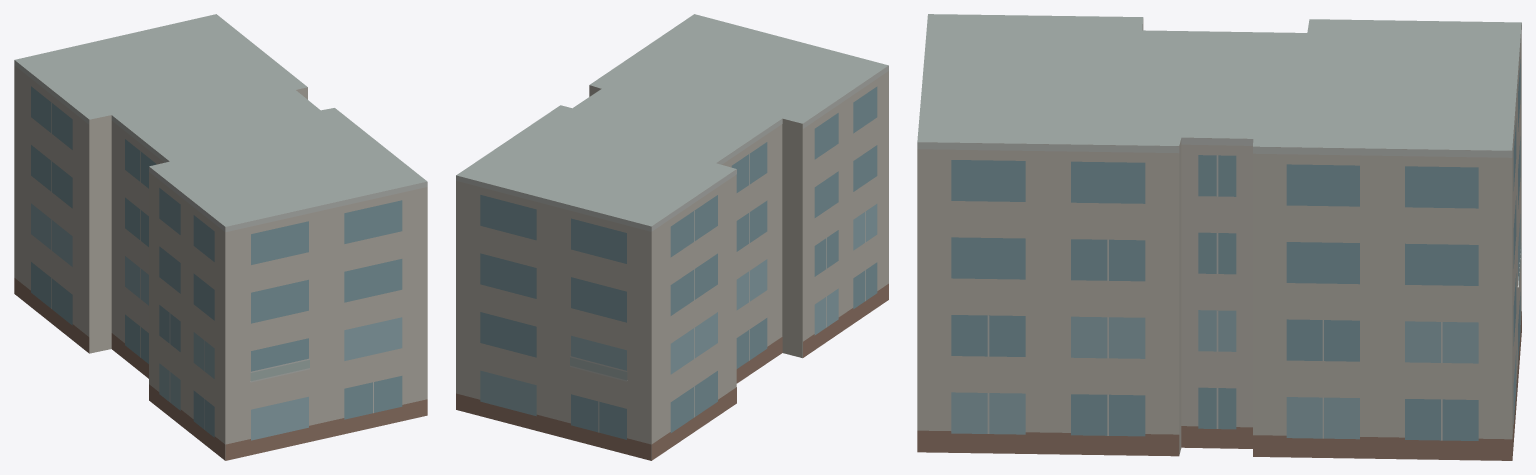
The model's file is survey-upis-32703824.glb.
The picture shows the model from 3 angles, left to right: view 1: azimuth 30°, elevation 25°; view 2: azimuth 150°, elevation 25°; view 3: azimuth 270°, elevation 25°; orthographic projection. The views are drawn at different scales.
Visible parts, largest first — view 1: survey-upis-32703824.tmp; view 2: survey-upis-32703824.tmp; view 3: survey-upis-32703824.tmp.
Boxes of the visible parts, bbox=[...] form: survey-upis-32703824.tmp: bbox=[14, 14, 427, 460]; survey-upis-32703824.tmp: bbox=[456, 14, 888, 460]; survey-upis-32703824.tmp: bbox=[917, 14, 1521, 460].
Size of the model in its own units: 10.09 by 10.66 by 18.84.
